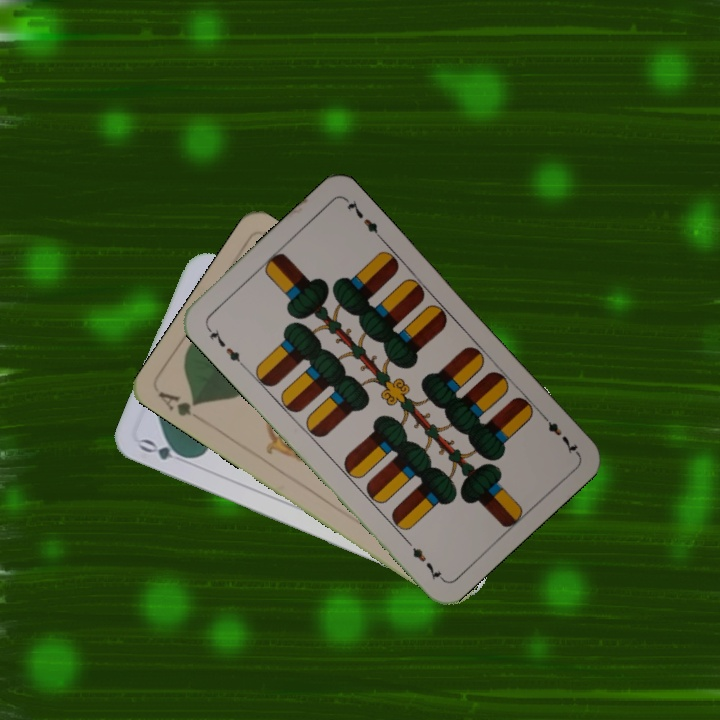E7: (536, 408, 581, 457), (202, 322, 247, 370)
GA: (154, 387, 203, 420)
GO: (135, 434, 195, 465)
